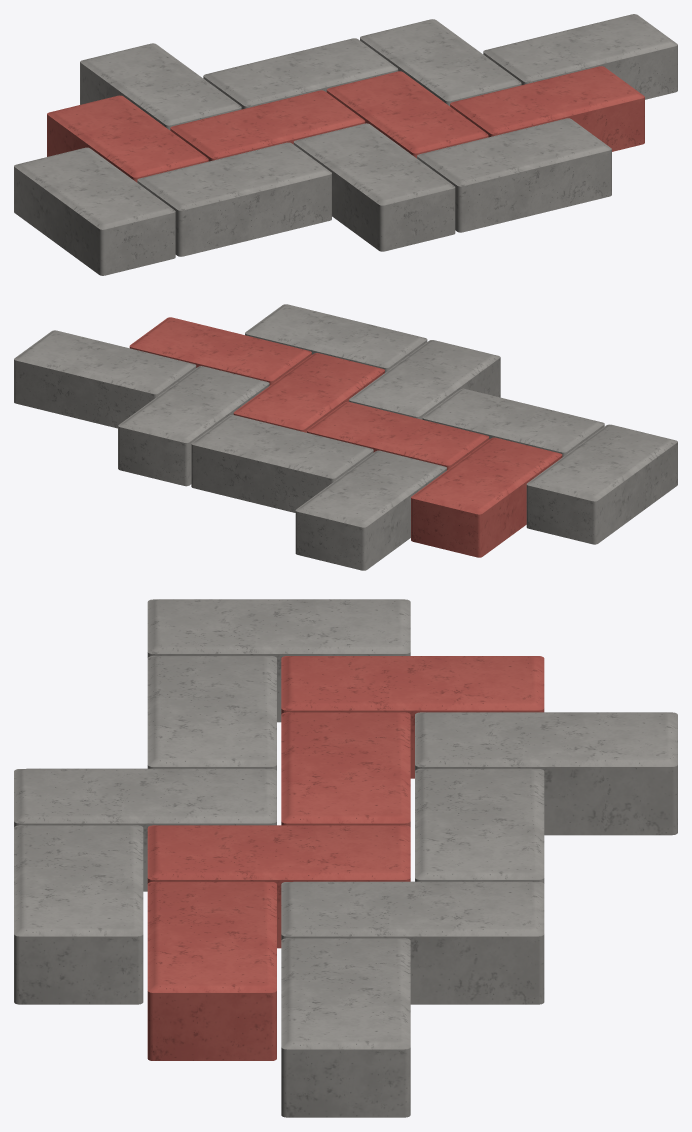
Rendered from herringbone-2.glb.
The picture shows the model from 3 angles, top to bottom: view 1: azimuth 30°, elevation 25°; view 2: azimuth 150°, elevation 25°; view 3: azimuth 270°, elevation 25°; orthographic projection. The views are drawn at different scales.
Parts seen in each view (by area): view 1: Colonial Classic.023, Colonial Classic.022, Colonial Classic.014, Colonial Classic.013, Colonial Classic.017, Colonial Classic.020, Colonial Classic.027, Colonial Classic.025, Colonial Classic.024, Colonial Classic.026, Colonial Classic.018, Colonial Classic.021; view 2: Colonial Classic.023, Colonial Classic.026, Colonial Classic.020, Colonial Classic.025, Colonial Classic.027, Colonial Classic.021, Colonial Classic.013, Colonial Classic.017, Colonial Classic.022, Colonial Classic.024, Colonial Classic.014, Colonial Classic.018; view 3: Colonial Classic.021, Colonial Classic.027, Colonial Classic.014, Colonial Classic.020, Colonial Classic.017, Colonial Classic.013, Colonial Classic.023, Colonial Classic.018, Colonial Classic.025, Colonial Classic.024, Colonial Classic.026, Colonial Classic.022.
Part boxes in pixels (x1,y1,x2,y2): Colonial Classic.023: (14,147,175,275); Colonial Classic.022: (137,142,331,256); Colonial Classic.014: (417,118,611,232); Colonial Classic.013: (293,123,455,251); Colonial Classic.017: (450,66,644,151); Colonial Classic.020: (483,14,677,99); Colonial Classic.027: (80,43,241,130); Colonial Classic.025: (47,95,208,182); Colonial Classic.024: (170,90,365,161); Colonial Classic.026: (203,38,398,109); Colonial Classic.018: (326,71,488,158); Colonial Classic.021: (360,19,521,105); Colonial Classic.023: (526,424,677,544); Colonial Classic.026: (191,415,373,512); Colonial Classic.020: (14,330,196,428); Colonial Classic.025: (411,437,562,557); Colonial Classic.027: (295,450,446,570); Colonial Classic.021: (118,366,269,486); Colonial Classic.013: (349,340,500,419); Colonial Classic.017: (129,317,311,385); Colonial Classic.022: (422,388,604,457); Colonial Classic.024: (307,402,489,470); Colonial Classic.014: (245,304,427,372); Colonial Classic.018: (233,353,384,432); Colonial Classic.021: (281,881,544,1004); Colonial Classic.027: (415,712,677,835); Colonial Classic.014: (14,825,143,1004); Colonial Classic.020: (281,938,410,1117); Colonial Classic.017: (147,881,276,1060); Colonial Classic.013: (14,768,276,891); Colonial Classic.023: (147,599,410,722); Colonial Classic.018: (147,825,410,948); Colonial Classic.025: (281,656,544,778); Colonial Classic.024: (281,712,410,826); Colonial Classic.026: (415,768,544,883); Colonial Classic.022: (147,656,276,770).
Bounding box in the file's own units: 0.8096 × 0.0603 × 0.5048.
Materials: 2 (2 with a texture image).
